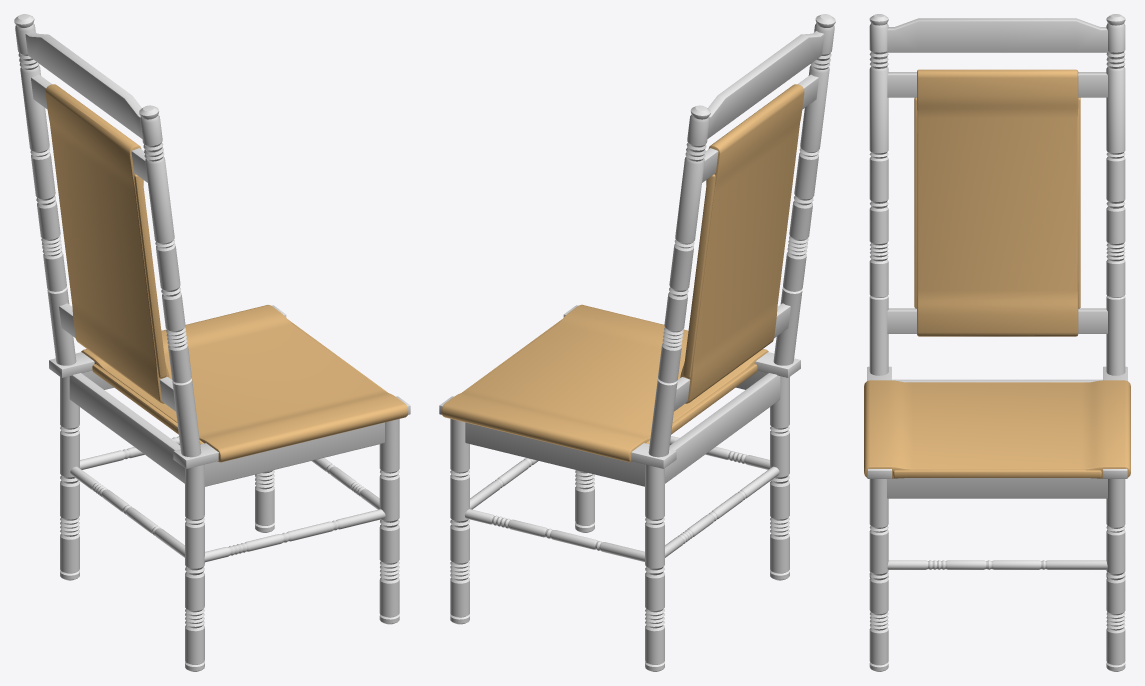
Rendered from Chair.glb.
The picture shows the model from 3 angles, left to right: view 1: azimuth 30°, elevation 25°; view 2: azimuth 150°, elevation 25°; view 3: azimuth 270°, elevation 25°; orthographic projection. The views are drawn at different scales.
Parts seen in each view (by area): view 1: Circle.001; view 2: Circle.001; view 3: Circle.001.
Part boxes in pixels (x1=…): Circle.001: x1=14, y1=14, x2=410, y2=671; Circle.001: x1=439, y1=14, x2=835, y2=671; Circle.001: x1=864, y1=14, x2=1130, y2=671.
Size of the model in its own units: 2.79 by 5.79 by 2.58.
